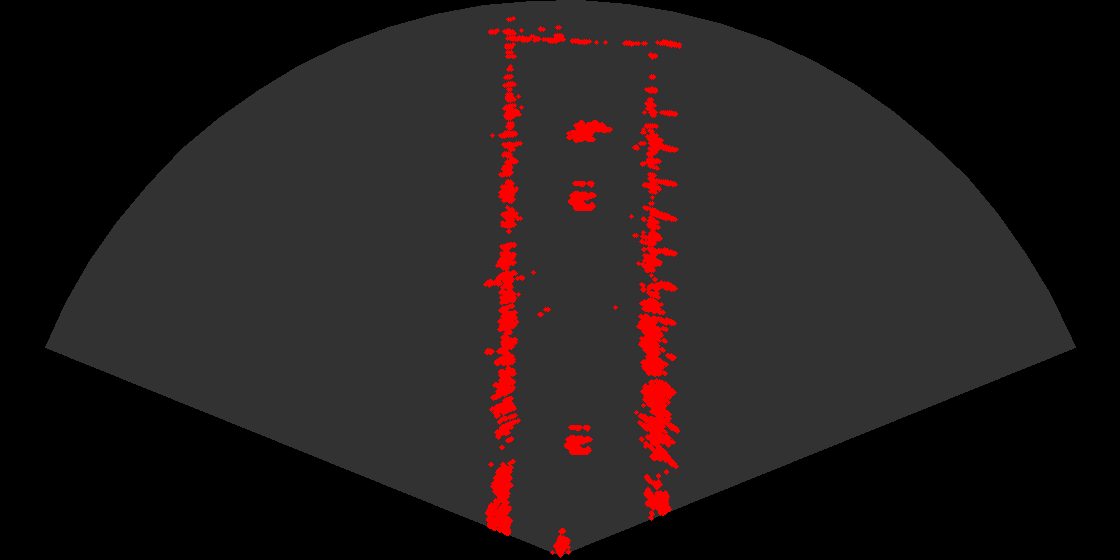AUV: (560, 118, 616, 150)
ball: (544, 417, 604, 458), (548, 173, 608, 214)
